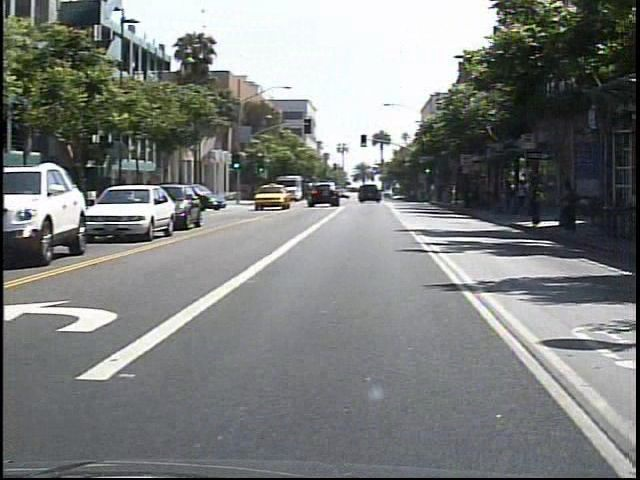person: (532, 166, 556, 233), (564, 177, 587, 239), (521, 179, 539, 219)
